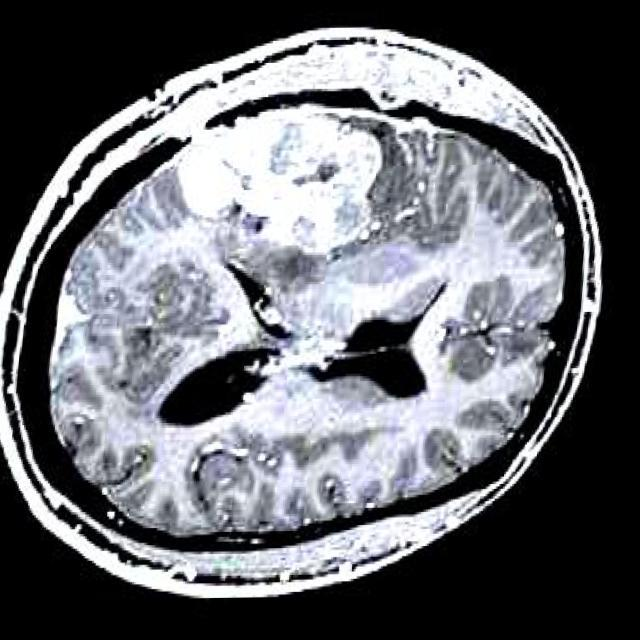Tumor: (177, 104, 385, 255)
